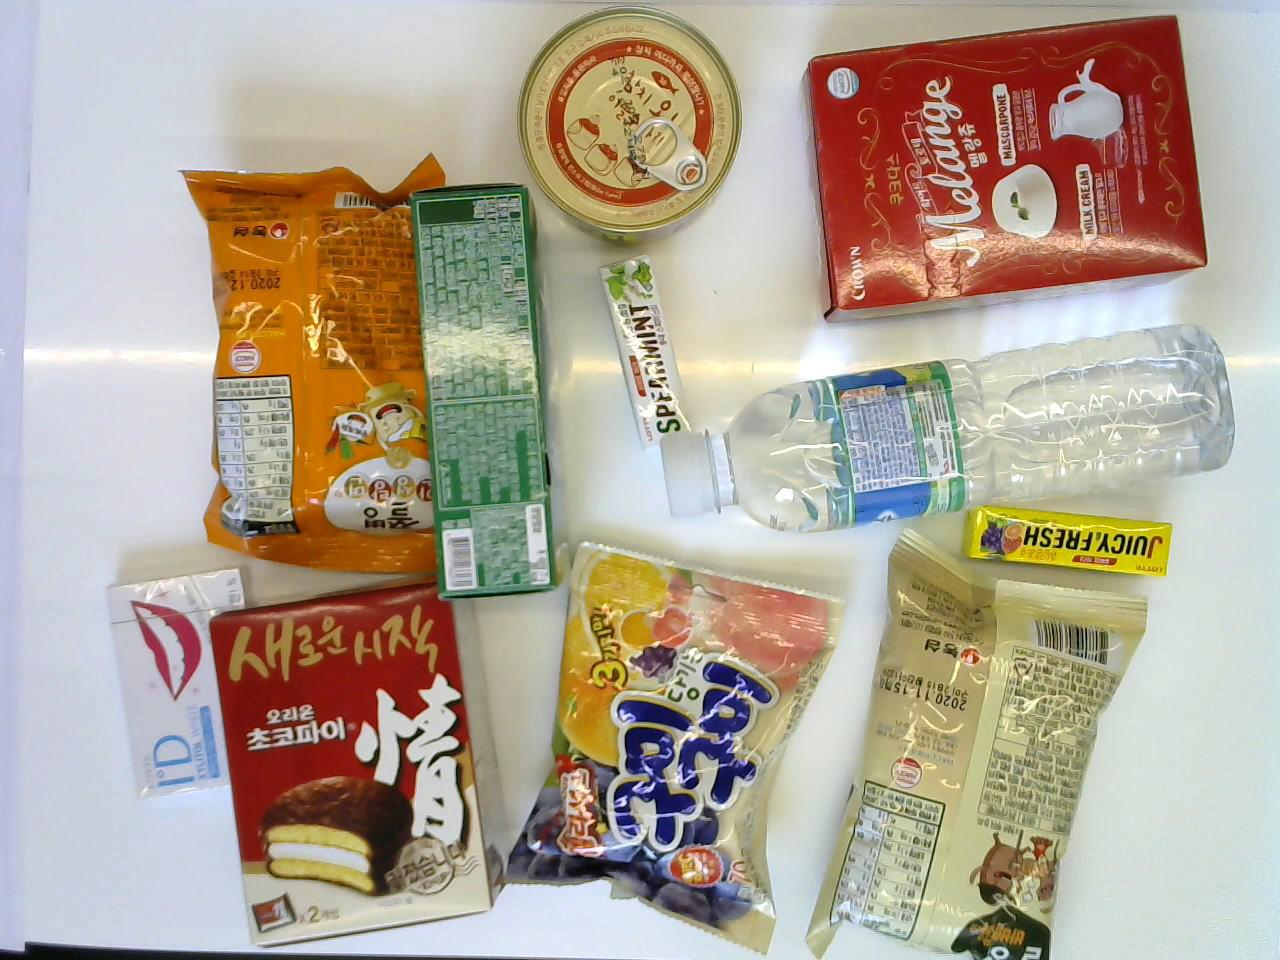ID_gum: (102, 565, 267, 805)
chocopie: (208, 574, 505, 947)
couque_coffee: (411, 182, 569, 604)
couque_white: (794, 14, 1210, 326)
gumi_gumi: (493, 541, 845, 952)
jjolbyung_noodle: (174, 146, 453, 582)
jjolbyung_ori: (803, 525, 1158, 956)
juicyfresh: (963, 501, 1174, 580)
samdasu: (660, 327, 1233, 536)
spearmint: (599, 254, 687, 447)
tuna: (516, 4, 740, 247)
